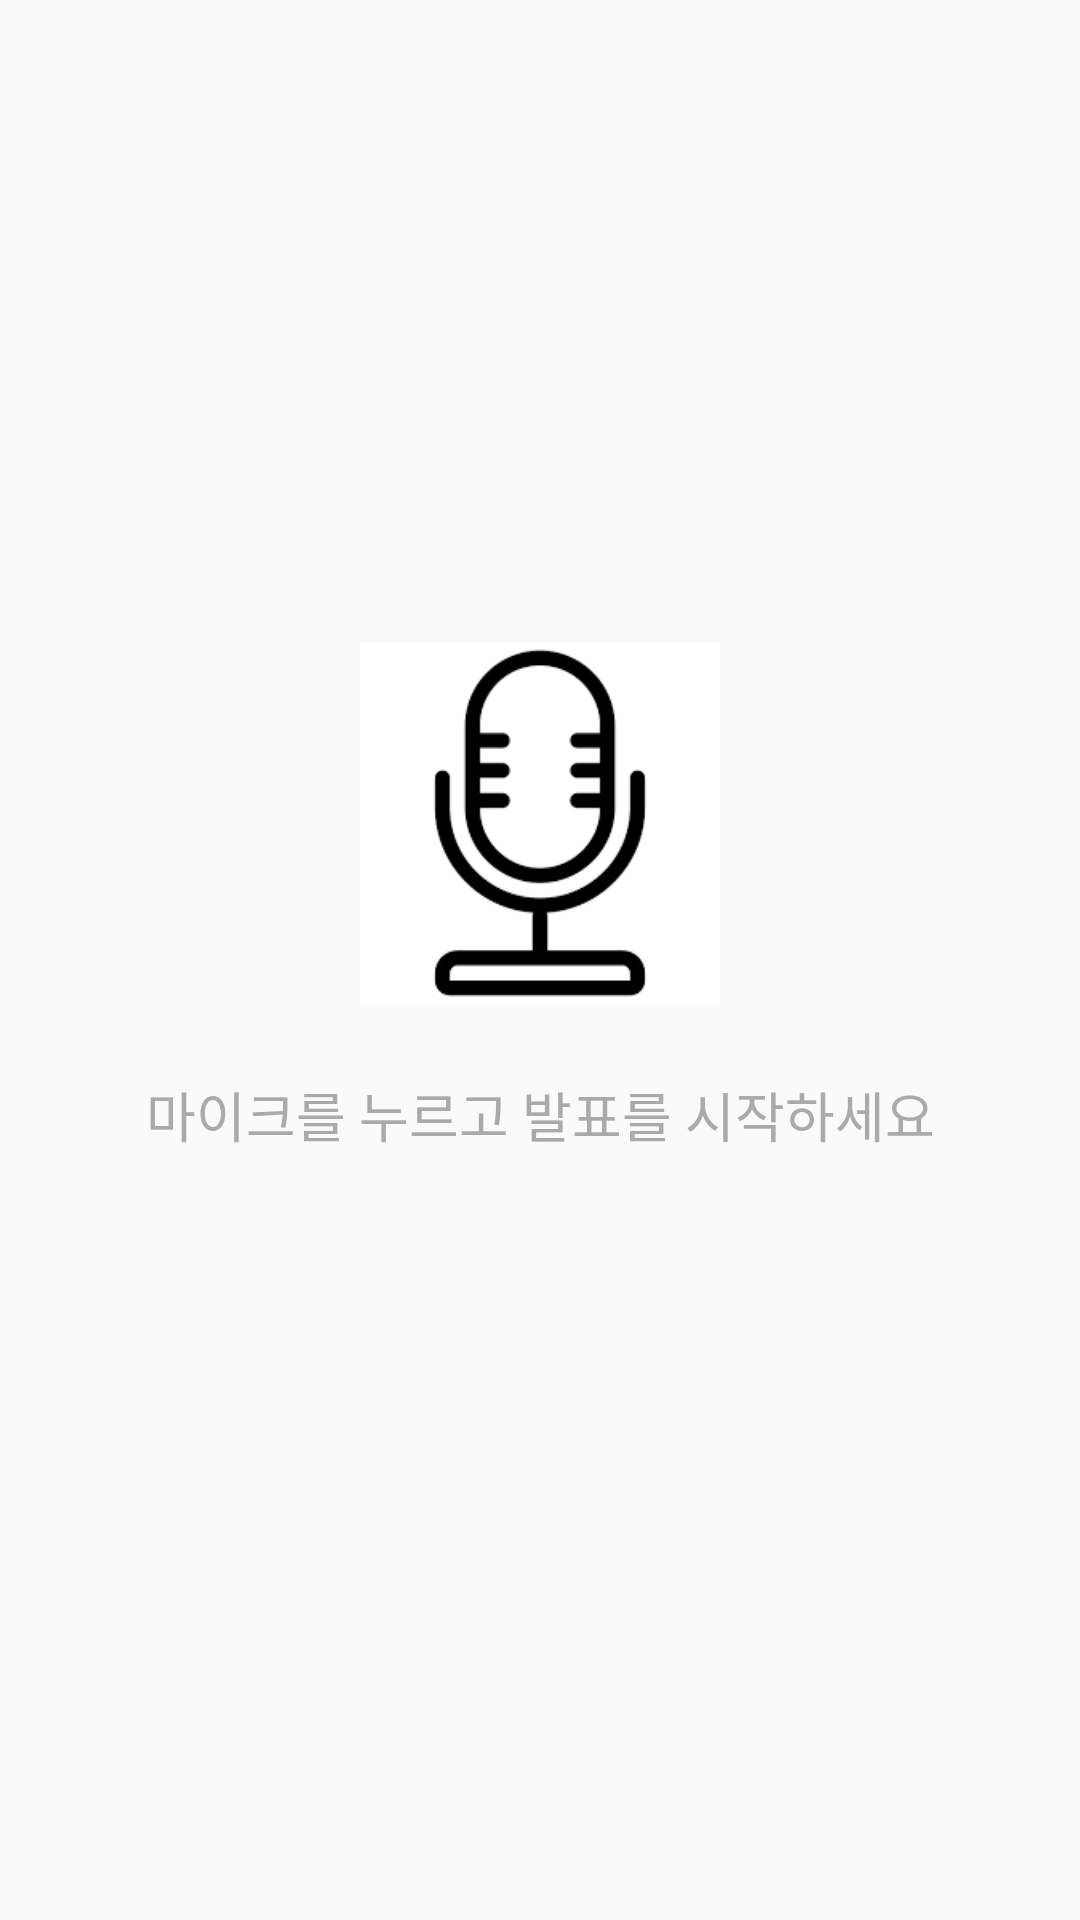

Icons on this 1080px x 1920px Android screen, each with its box as (x1, y1, x2, y2):
마이크 아이콘: (434, 649, 646, 997)
